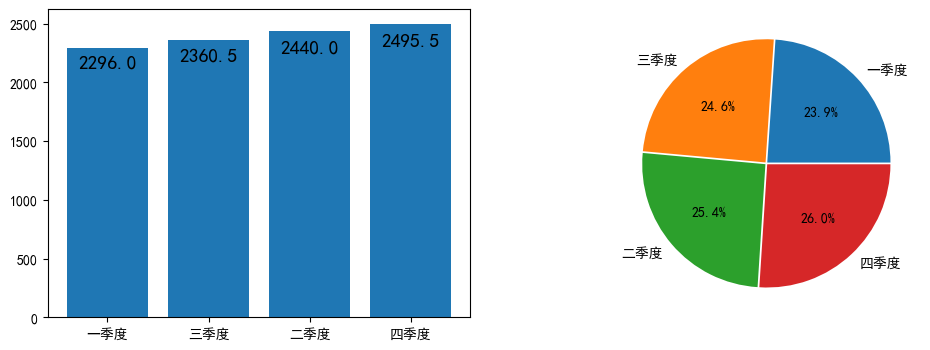

This screenshot's page, from the dashboard's own definition file:
{"tool":"tableau","page":{"name":"仪表板 5","canvas":[1000,1000],"units":"permille","ordinal":0},"visuals":[{"type":"worksheet","title":"工作表 1","mark":"Automatic","box":[50,62.5,409,907.5]},{"type":"legend","title":"工作表 1","param":"[federated.1ia185u12301xa1ehuvfc1k5n9s5].[sum:state:qk]","box":[186.5,99.9,140.3,56.9]}]}

Visuals, with their boxes on the dashboard's canvas, which has no fixed pixel size, in thousandths of its width and height (x1, y1, x2, y2). These are canvas units, not pixel positions in the 930x350 screenshot, which may show the page scaled, cropped or inside an application window:
"工作表 1" worksheet: <box>50,62,459,970</box>
"工作表 1" legend: <box>186,100,327,157</box>
